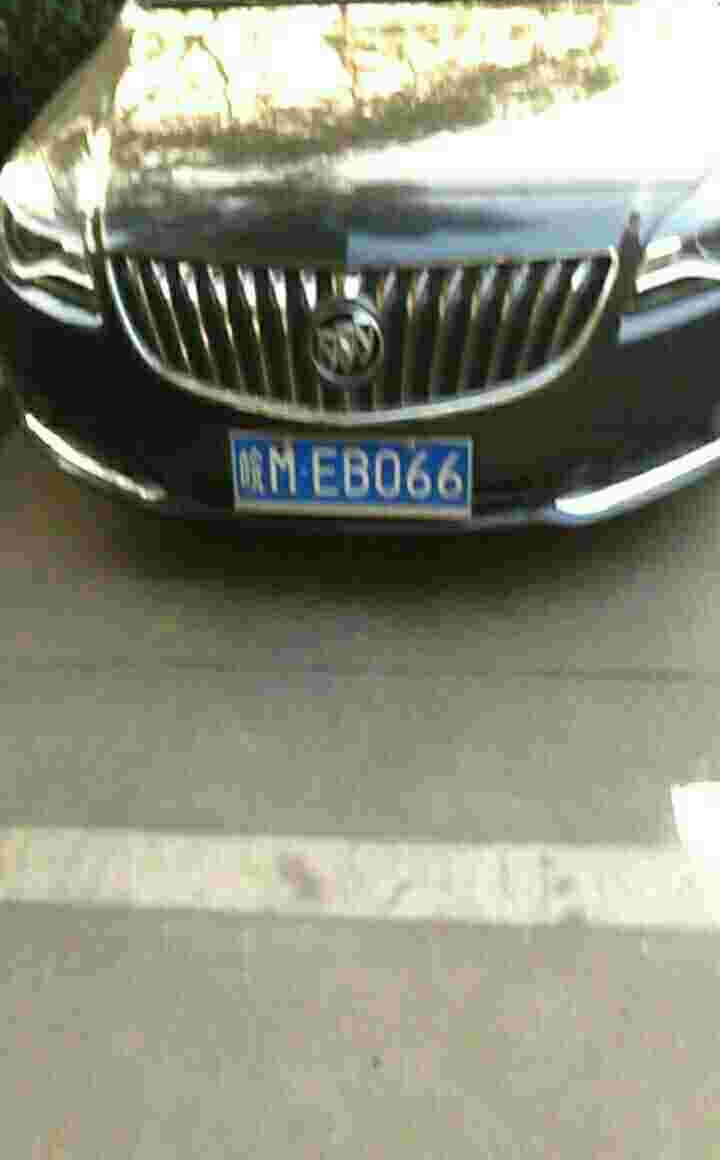license_plate: (221, 429, 460, 509)
